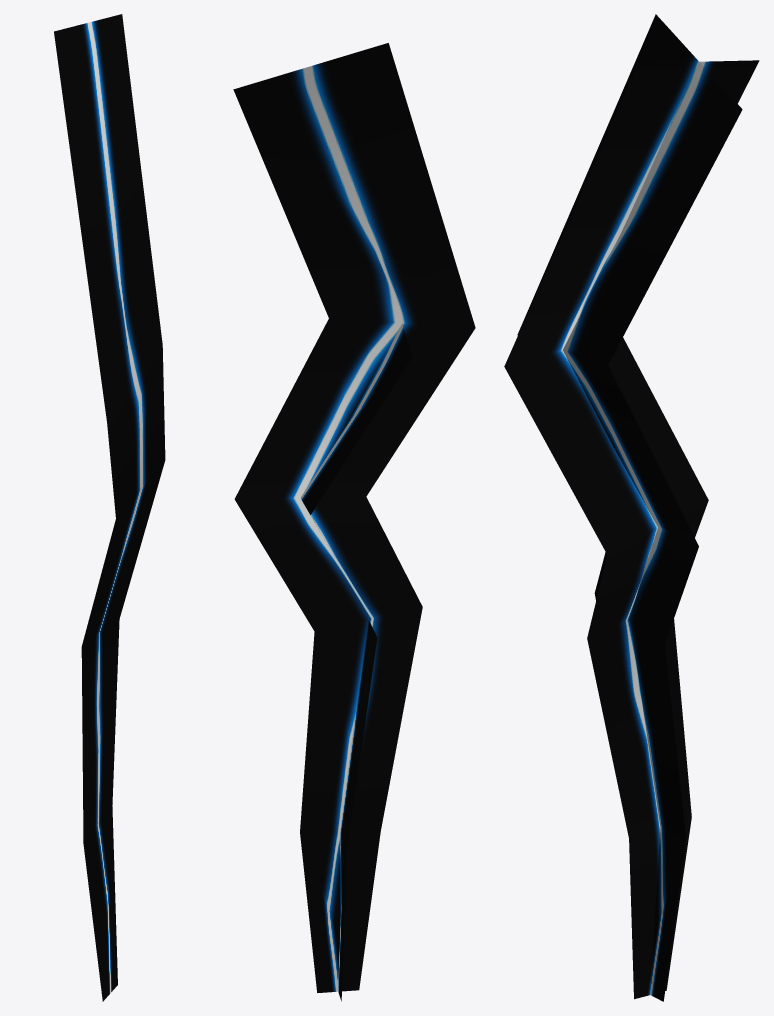
Rendered from ms_lightning03_02.fbx.
3 views of the same model, side by side, from view 1: azimuth 30°, elevation 25°; view 2: azimuth 150°, elevation 25°; view 3: azimuth 270°, elevation 25° (orthographic).
Visible parts, largest first — view 1: ms_lightning_03_02; view 2: ms_lightning_03_02; view 3: ms_lightning_03_02.
Boxes of the visible parts, x1,y1,x2,y2 form: ms_lightning_03_02: (54, 14, 165, 1001); ms_lightning_03_02: (233, 43, 475, 1001); ms_lightning_03_02: (504, 14, 759, 1001).
Size of the model in its own units: 38.24 by 236 by 57.12.
